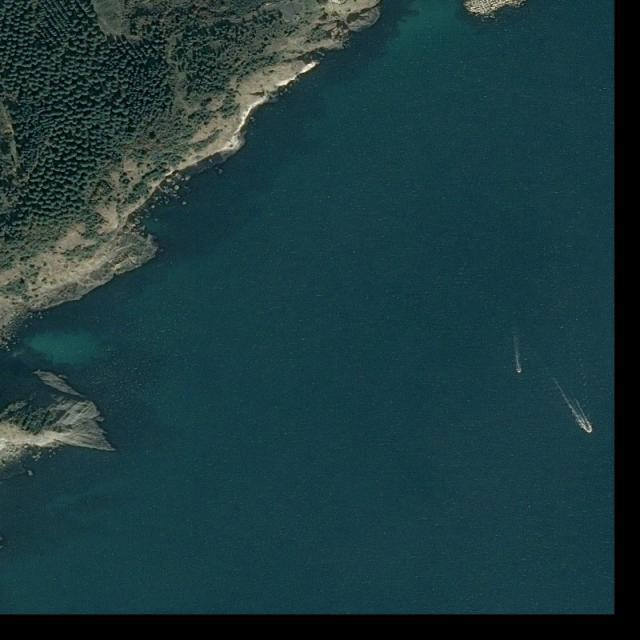ship: (585, 422, 592, 434), (517, 368, 522, 374)
